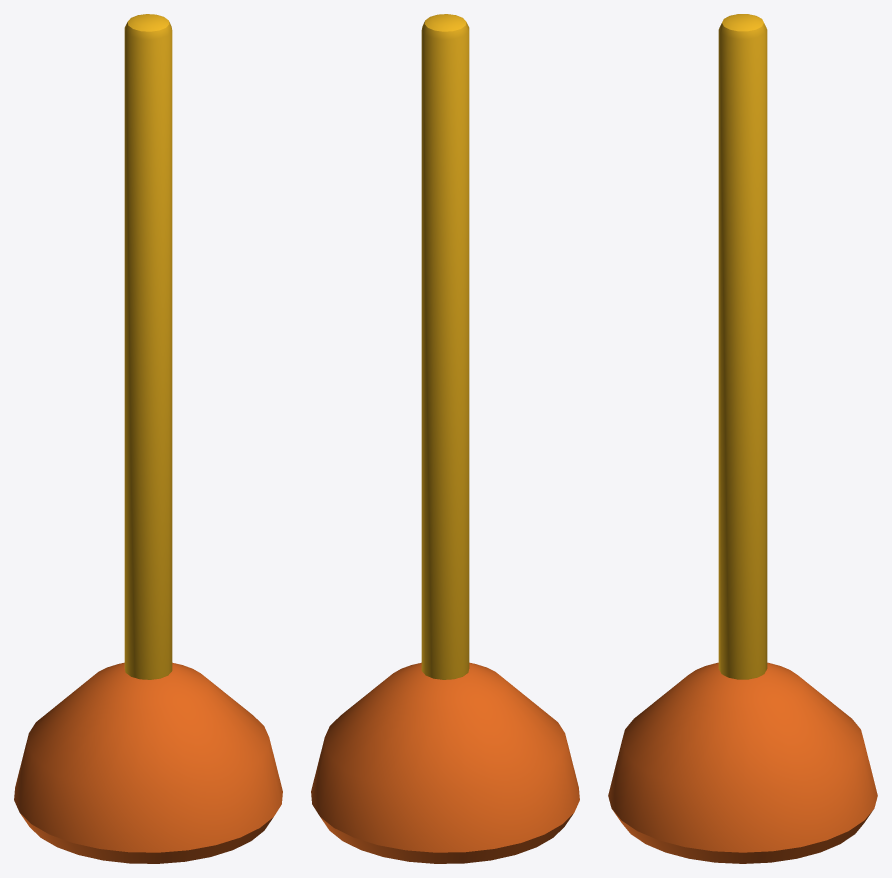
Rendered from desentupidor_laranja.glb.
3 renders of one model, left to right at view 1: azimuth 30°, elevation 25°; view 2: azimuth 150°, elevation 25°; view 3: azimuth 270°, elevation 25°, orthographic.
Parts seen in each view (by area): view 1: desentupidor_laranja; view 2: desentupidor_laranja; view 3: desentupidor_laranja.
Boxes of the visible parts, x1,y1,x2,y2 form: desentupidor_laranja: (14, 14, 282, 863); desentupidor_laranja: (311, 14, 579, 863); desentupidor_laranja: (608, 14, 877, 863).
Bounding box in the file's own units: 0.156 × 0.505 × 0.156.
1 material, 1 textured.
